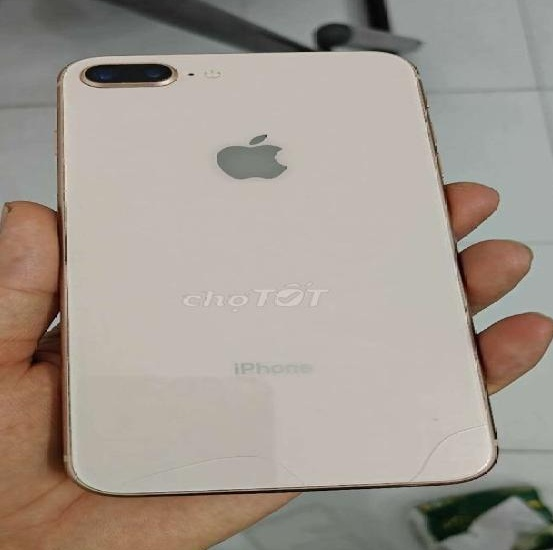physical_damage: (89, 416, 504, 489)
